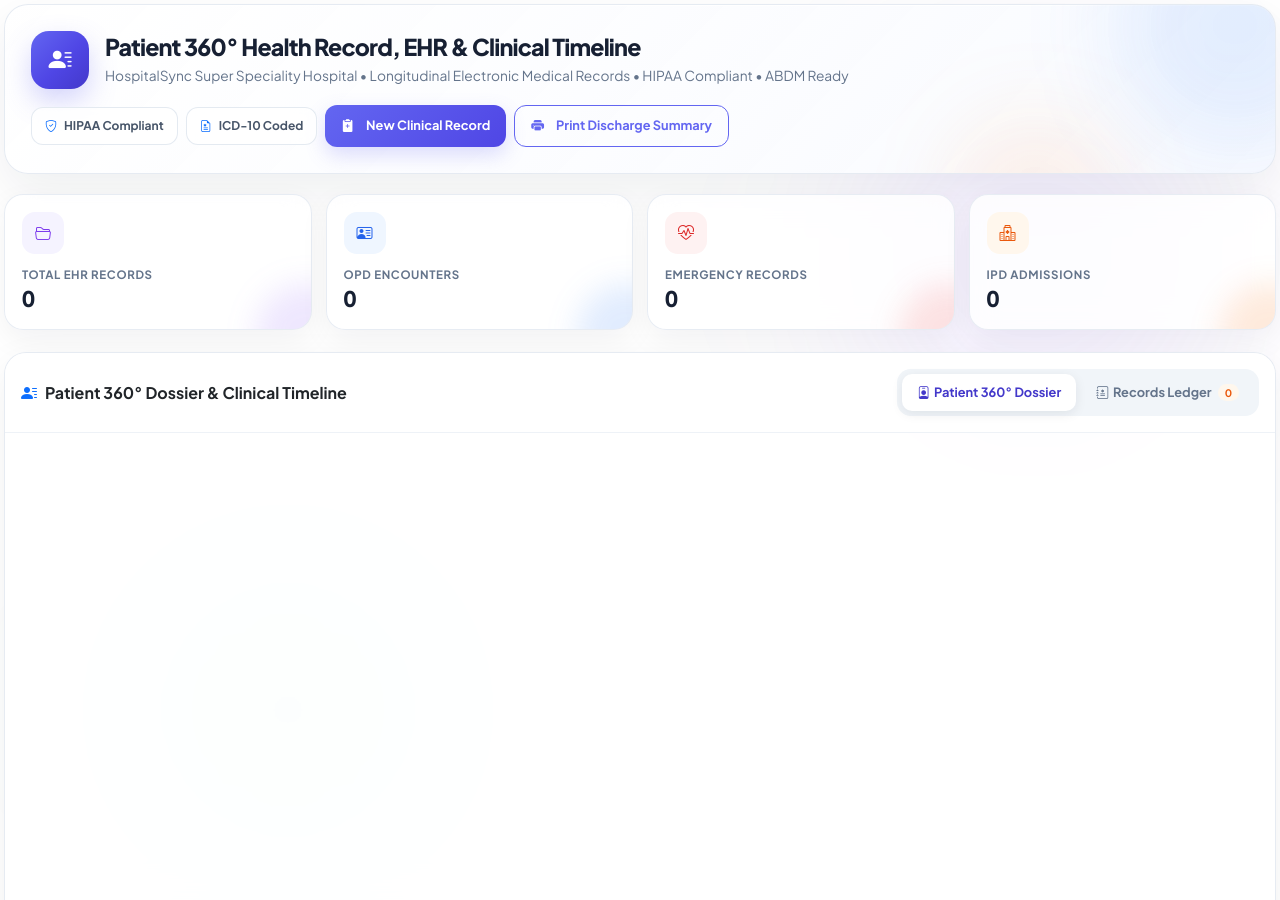
Test: MedicalRecordPanel (Patient 360° Dossier) Integration Suite › switches between Patient Dossier and Records Ledger tabs
// Click Records Ledger tab
Click the button "Records Ledger0": (1168, 393) [1081,374,1254,411]
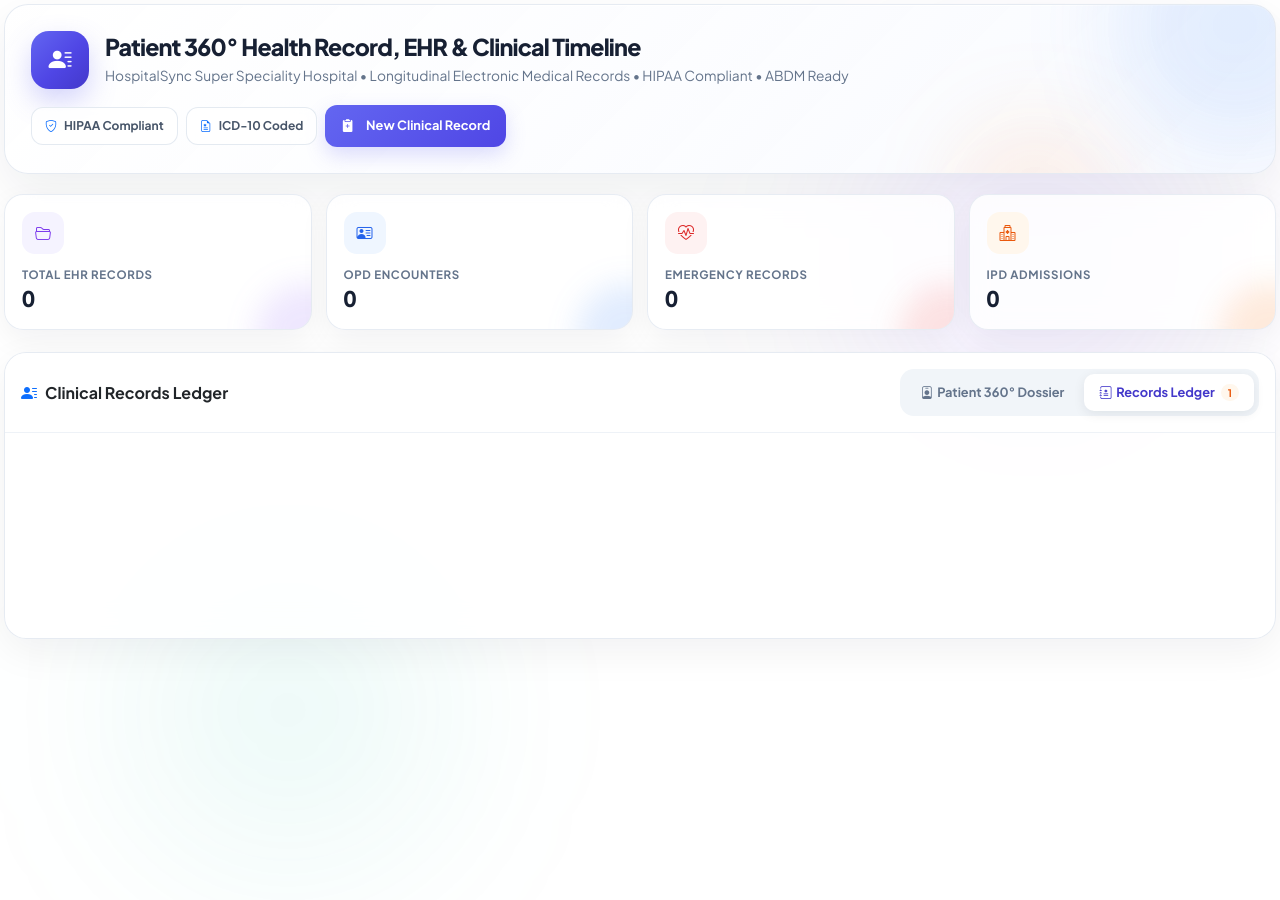
// Switch back to Dossier
Click the button "Patient 360° Dossier": (992, 393) [905,374,1079,411]
(page scrolled)
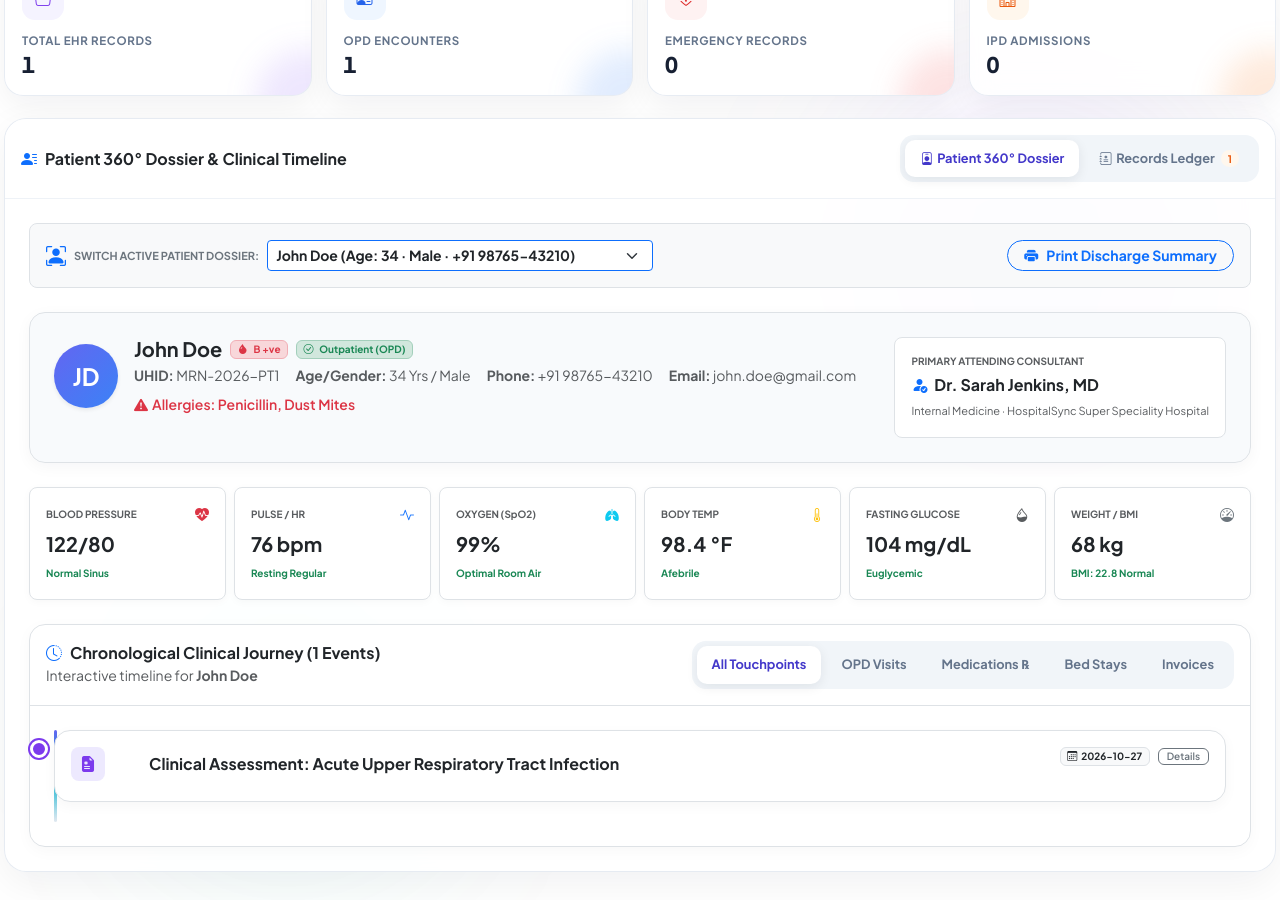
Expected: the heading "Chronological Clinical Journey (1 Events)" is shown, [46,643,380,663]
